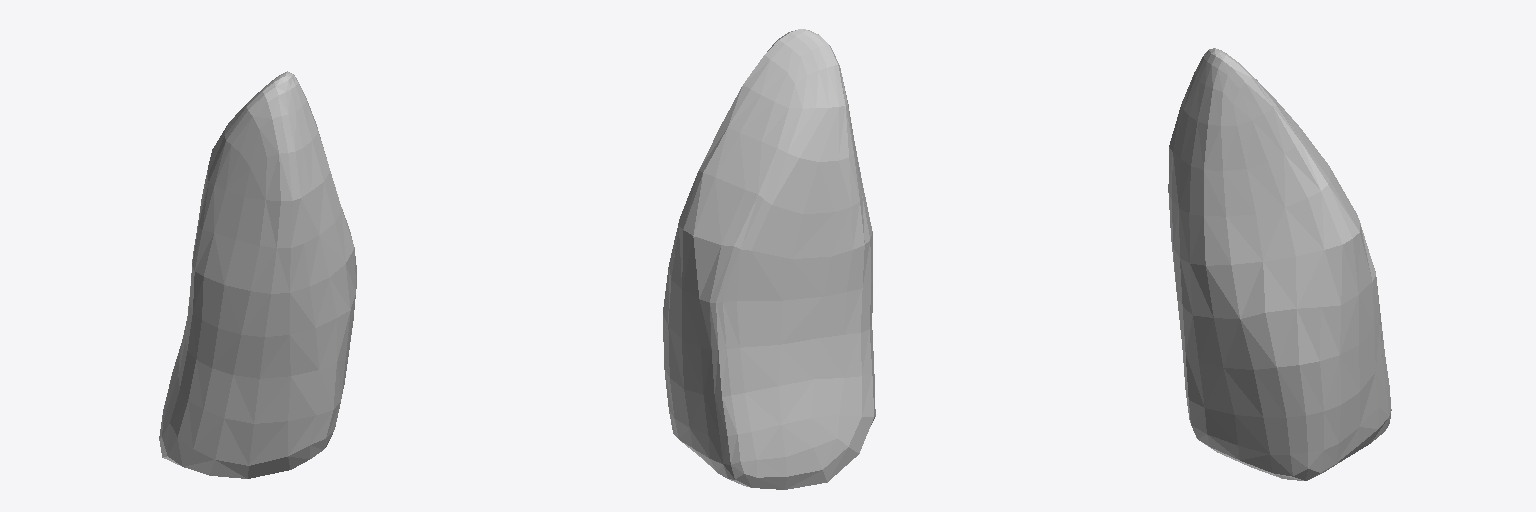
File: Rock4.obj
3 views of the same model, side by side, from view 1: azimuth 30°, elevation 25°; view 2: azimuth 150°, elevation 25°; view 3: azimuth 270°, elevation 25° (orthographic).
Parts seen in each view (by area): view 1: Rocks_Scatter_02_Mesh.002; view 2: Rocks_Scatter_02_Mesh.002; view 3: Rocks_Scatter_02_Mesh.002.
Part boxes in pixels (x1,y1,x2,y2): Rocks_Scatter_02_Mesh.002: (159, 71, 356, 478); Rocks_Scatter_02_Mesh.002: (663, 29, 875, 489); Rocks_Scatter_02_Mesh.002: (1168, 48, 1391, 480).
Size of the model in its own units: 0.3959 by 0.8369 by 0.414.